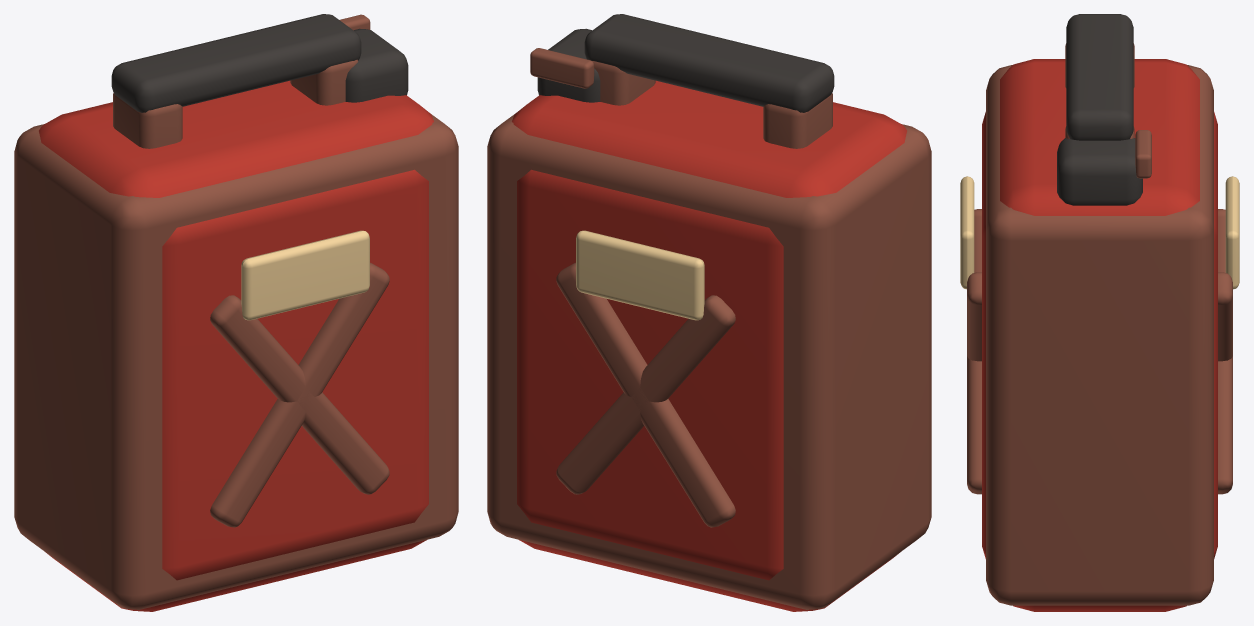
Rendered from creek-fuel-can.glb.
The picture shows the model from 3 angles, left to right: view 1: azimuth 30°, elevation 25°; view 2: azimuth 150°, elevation 25°; view 3: azimuth 270°, elevation 25°; orthographic projection. The views are drawn at different scales.
Visible parts, largest first — view 1: Rubbed steel seam, Brick red powder coat, Black cap and handle, Aged fuel badge; view 2: Rubbed steel seam, Brick red powder coat, Black cap and handle, Aged fuel badge; view 3: Rubbed steel seam, Brick red powder coat, Black cap and handle, Aged fuel badge.
Boxes of the visible parts, left/top/right/bottom form: Rubbed steel seam: left=14, top=14, right=458, bottom=609; Brick red powder coat: left=39, top=80, right=433, bottom=611; Black cap and handle: left=111, top=14, right=408, bottom=112; Aged fuel badge: left=241, top=230, right=369, bottom=320; Rubbed steel seam: left=487, top=48, right=931, bottom=609; Brick red powder coat: left=512, top=80, right=906, bottom=611; Black cap and handle: left=537, top=14, right=834, bottom=112; Aged fuel badge: left=576, top=230, right=704, bottom=320; Rubbed steel seam: left=967, top=43, right=1232, bottom=605; Brick red powder coat: left=982, top=59, right=1217, bottom=611; Black cap and handle: left=1057, top=14, right=1142, bottom=205; Aged fuel badge: left=960, top=176, right=1239, bottom=289.
Bounding box in the file's own units: 0.49 × 0.6865 × 0.358.
